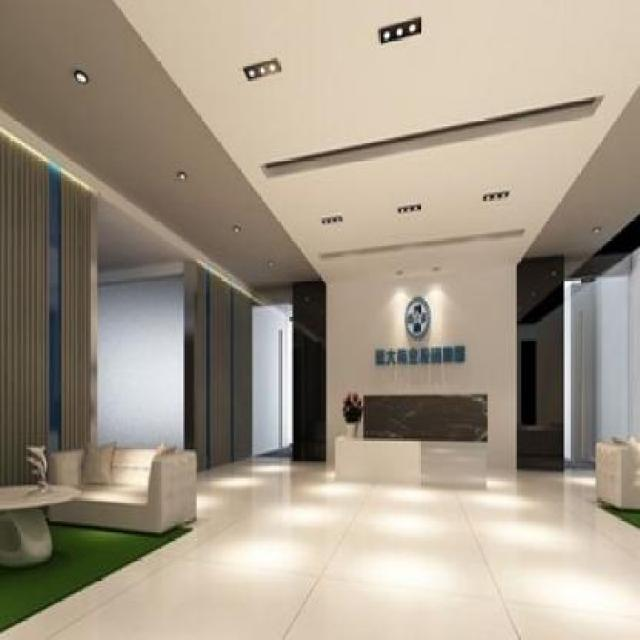frontdesk: (330, 370, 496, 504)
